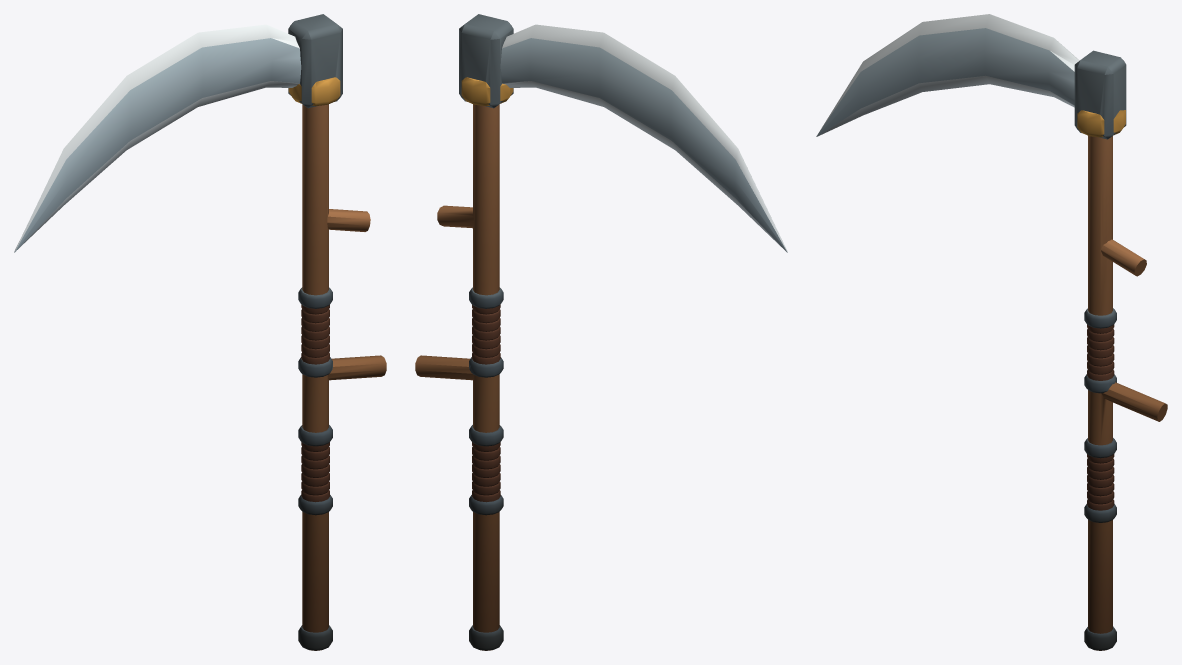
File: scythe_iron.glb
3 renders of one model, left to right at view 1: azimuth 30°, elevation 25°; view 2: azimuth 150°, elevation 25°; view 3: azimuth 330°, elevation 25°, orthographic. The views are drawn at different scales.
Parts seen in each view (by area): view 1: Item; view 2: Item; view 3: Item.
Boxes of the visible parts, x1,y1,x2,y2 form: Item: (14,14,386,650); Item: (415,14,787,650); Item: (816,14,1167,650).
Size of the model in its own units: 1.35 by 2.24 by 0.172.
Materials: 2 (2 with a texture image).
